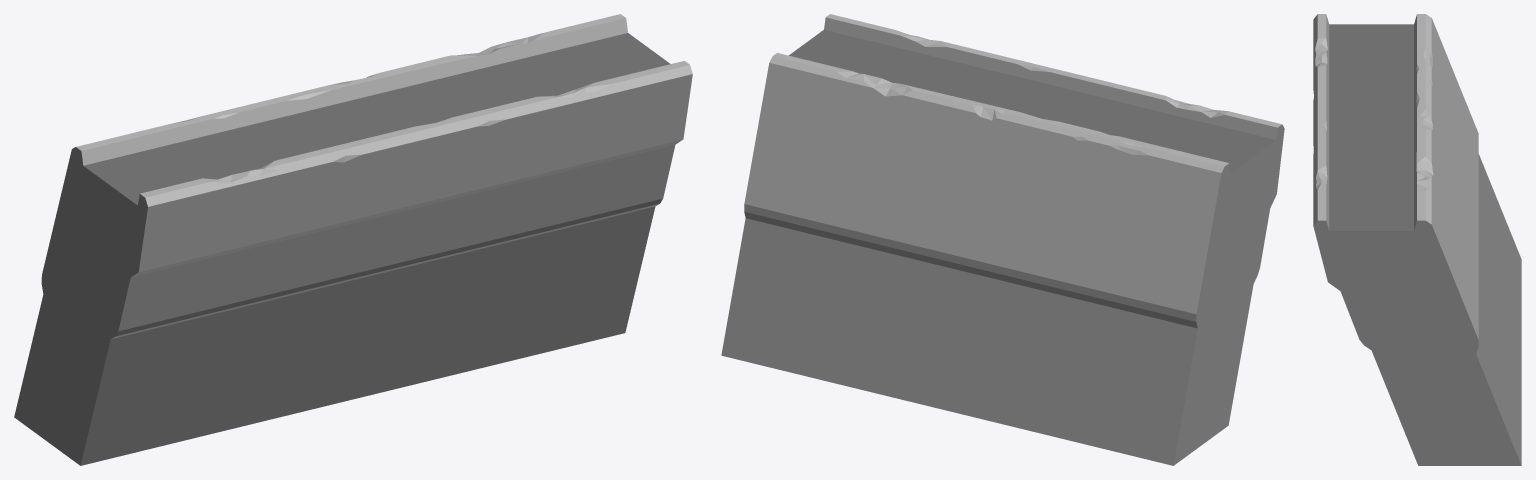
The model's file is space_station_024.fbx.
3 views of the same model, side by side, from view 1: azimuth 30°, elevation 25°; view 2: azimuth 150°, elevation 25°; view 3: azimuth 270°, elevation 25° (orthographic). The views are drawn at different scales.
Parts seen in each view (by area): view 1: space_station_024; view 2: space_station_024; view 3: space_station_024.
Part boxes in pixels (x1,y1,x2,y2): space_station_024: (14,14,692,465); space_station_024: (721,14,1284,465); space_station_024: (1313,14,1521,465).
Size of the model in its own units: 3970 by 1690 by 2197.
